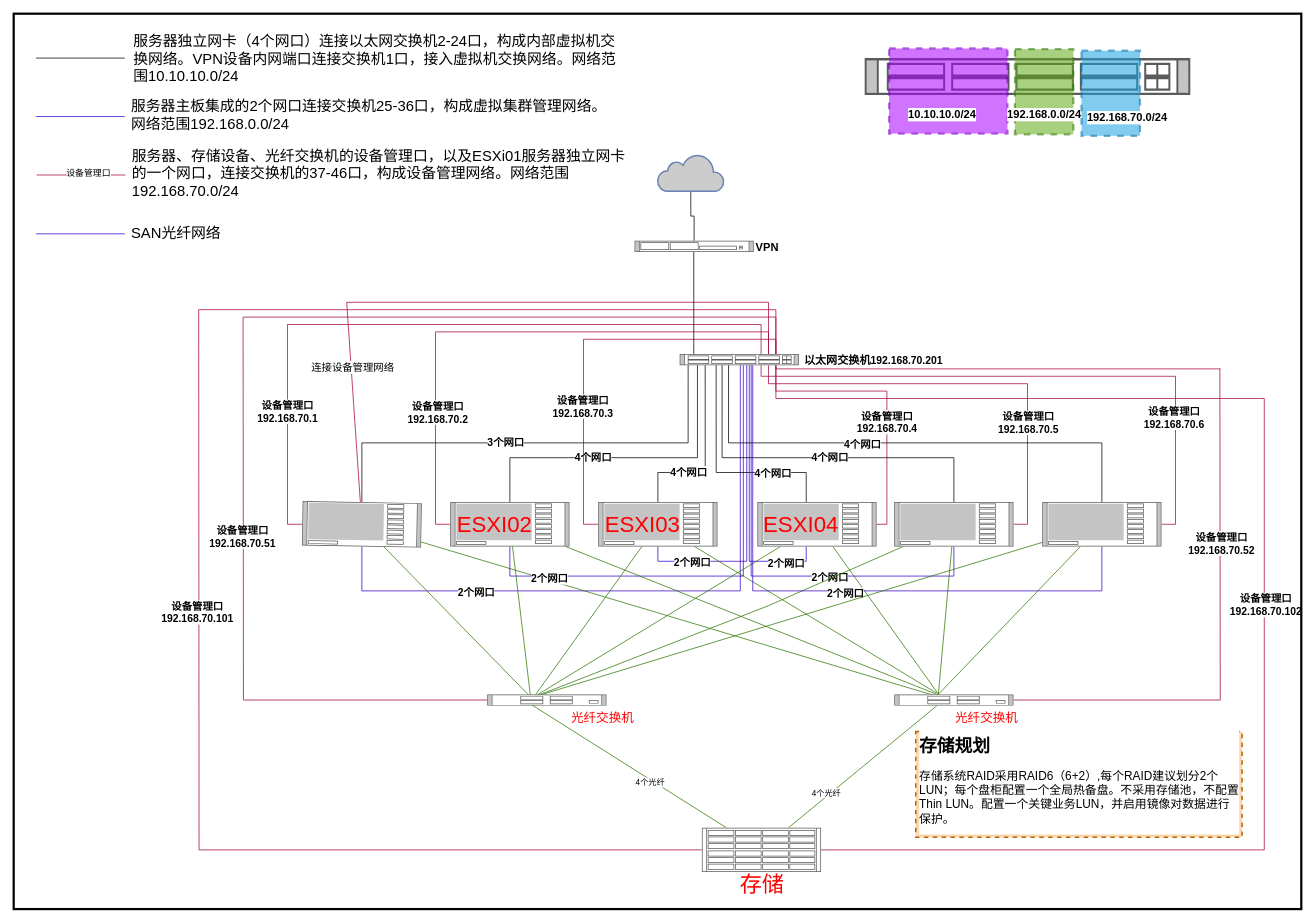
This 1315x923 diagram has some shape labels left out. Each missing label, with the centre of its shape:
"ESXI01" belongs at pixel 361 524.
"ESXI05" belongs at pixel 953 523.
"ESXI06" belongs at pixel 1101 523.
